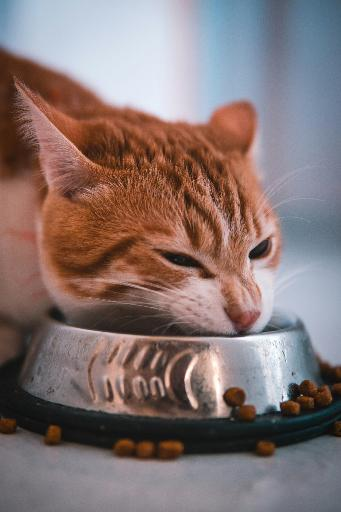cat_eating: (0, 51, 341, 453)
